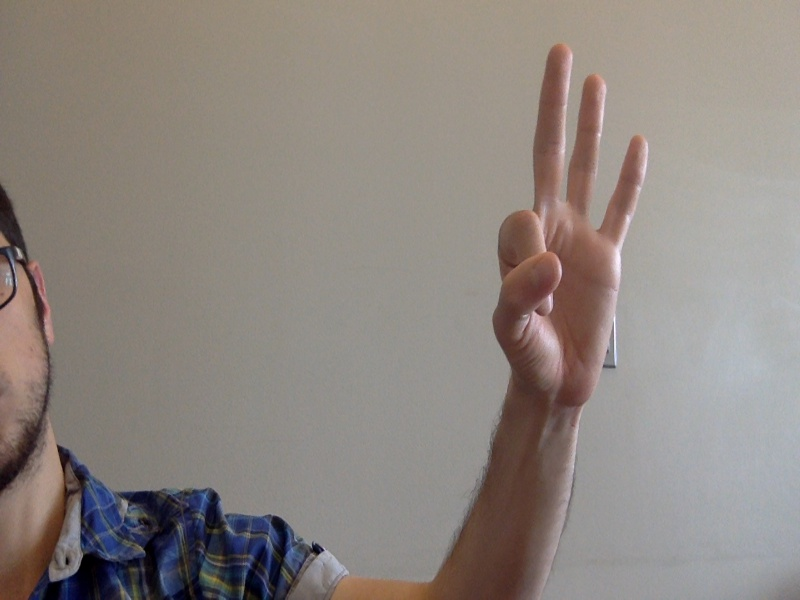3-hand: (497, 41, 649, 404)
